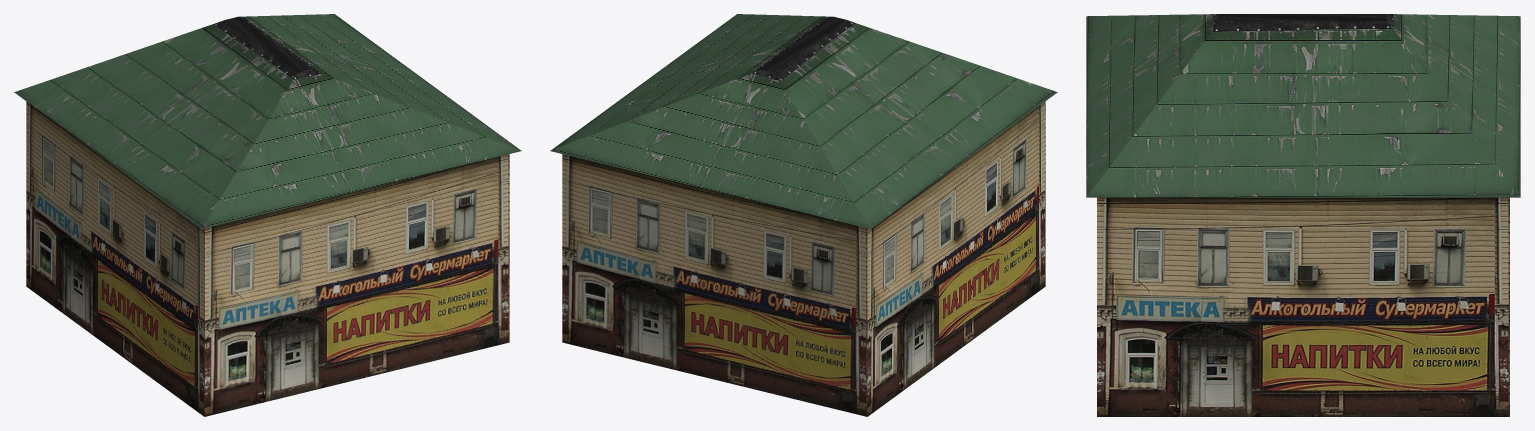
File: d_dom_2et_11_stena.FBX
3 views of the same model, side by side, from view 1: azimuth 30°, elevation 25°; view 2: azimuth 150°, elevation 25°; view 3: azimuth 270°, elevation 25° (orthographic). The views are drawn at different scales.
Parts seen in each view (by area): view 1: d_dom_2et_12; view 2: d_dom_2et_12; view 3: d_dom_2et_12.
Boxes of the visible parts, bbox=[...] form: d_dom_2et_12: bbox=[14, 14, 521, 416]; d_dom_2et_12: bbox=[550, 14, 1057, 416]; d_dom_2et_12: bbox=[1086, 14, 1520, 416].
Size of the model in its own units: 9.71 by 9.82 by 7.81.
